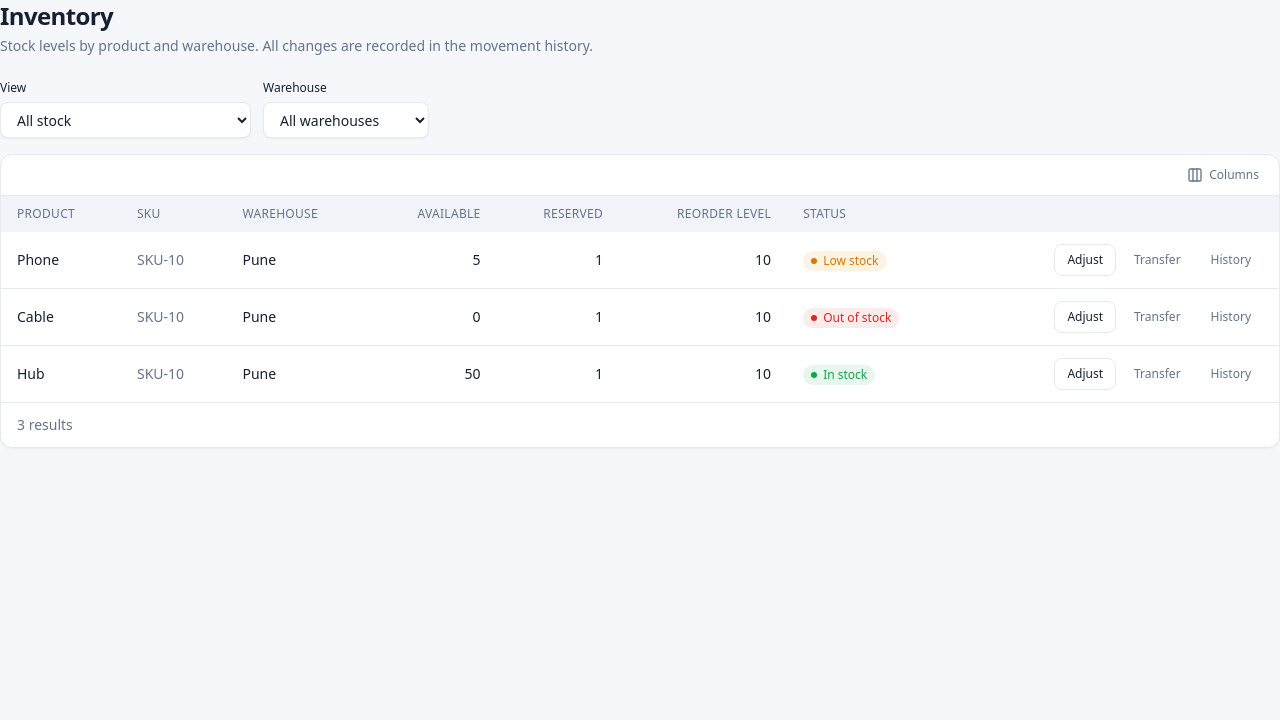
Test case: AdminInventoryPage › submits a valid adjustment to the API and closes the dialog
Click the button with aria-label "Adjust Phone in Pune" at (1085, 260), box [1054,244,1116,276]
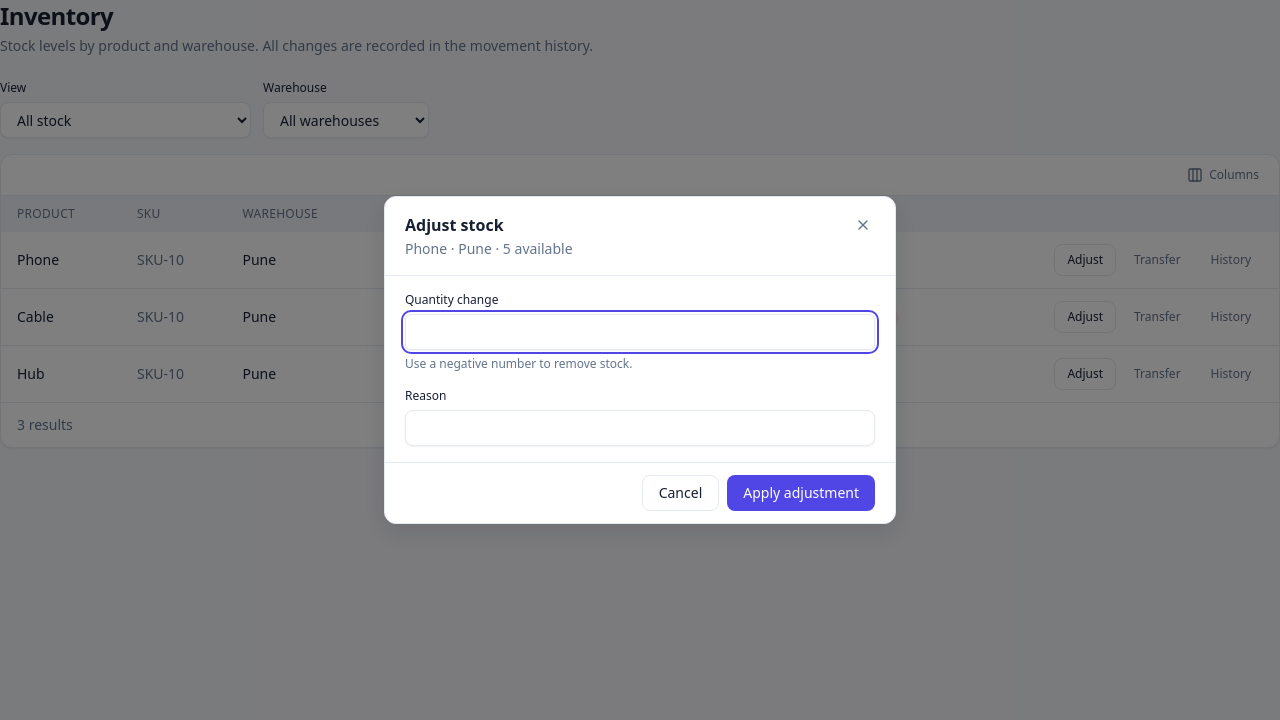
Type "20" into the field labelled "Quantity change" at (640, 332), box [405,314,875,350]
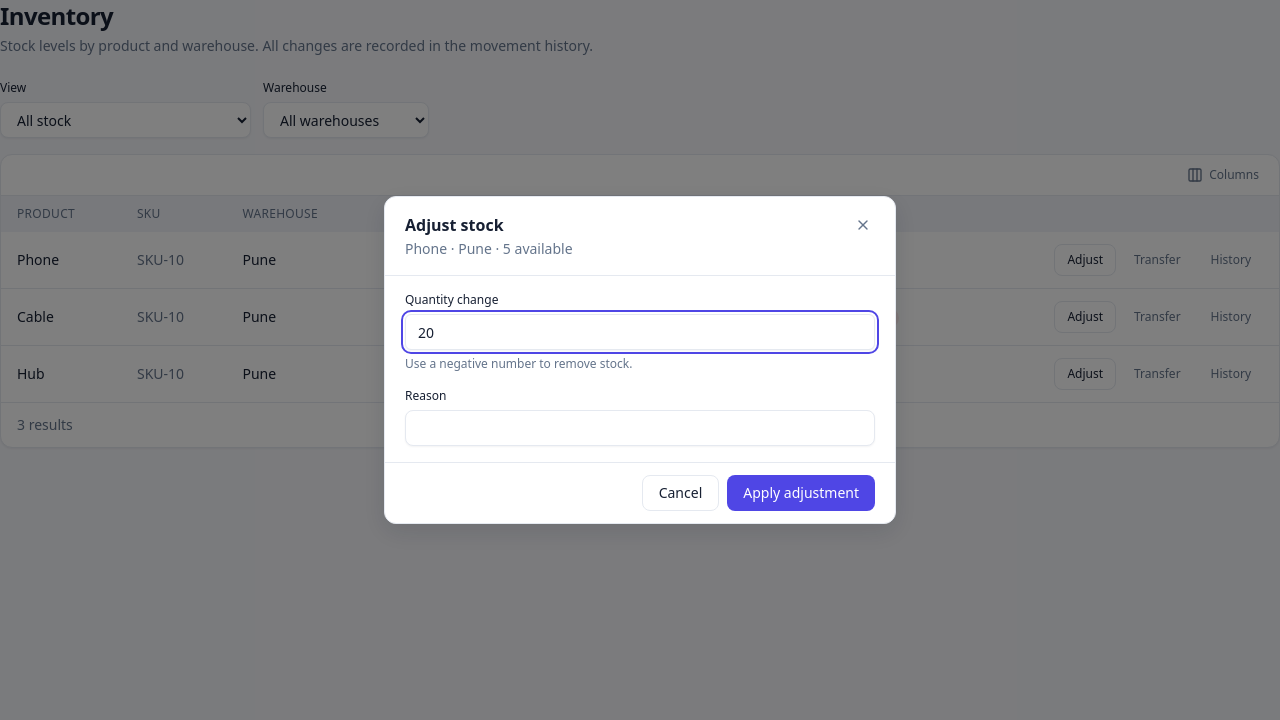
Type "Cycle count" into the field labelled "Reason" at (640, 428), box [405,410,875,446]
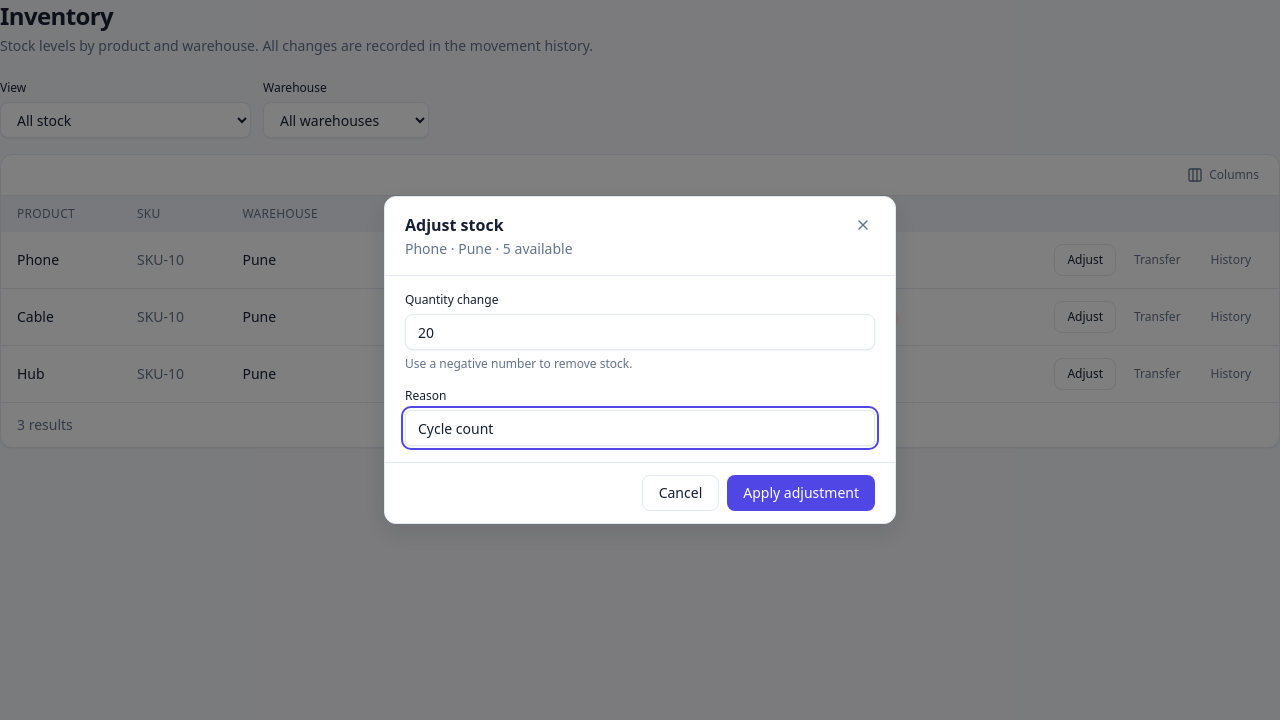
Click the button "Apply adjustment" at (801, 493), box [727,475,875,511]
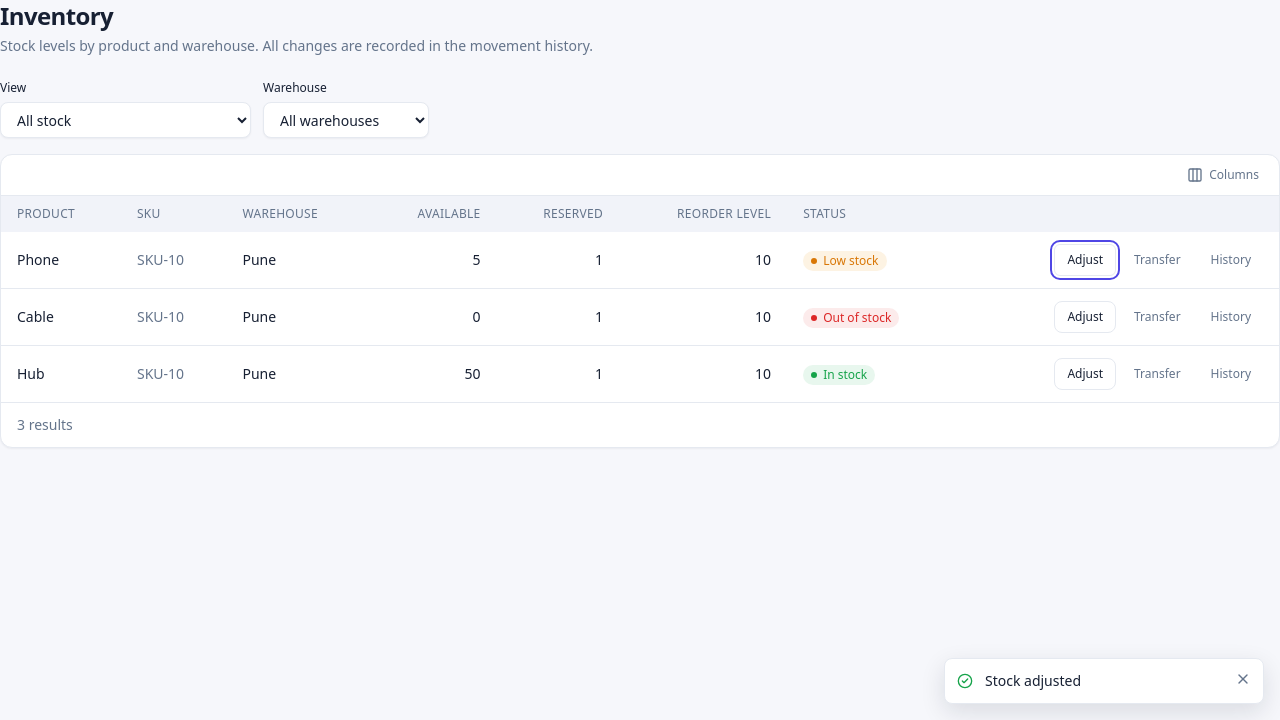
Expected: the dialog is gone
